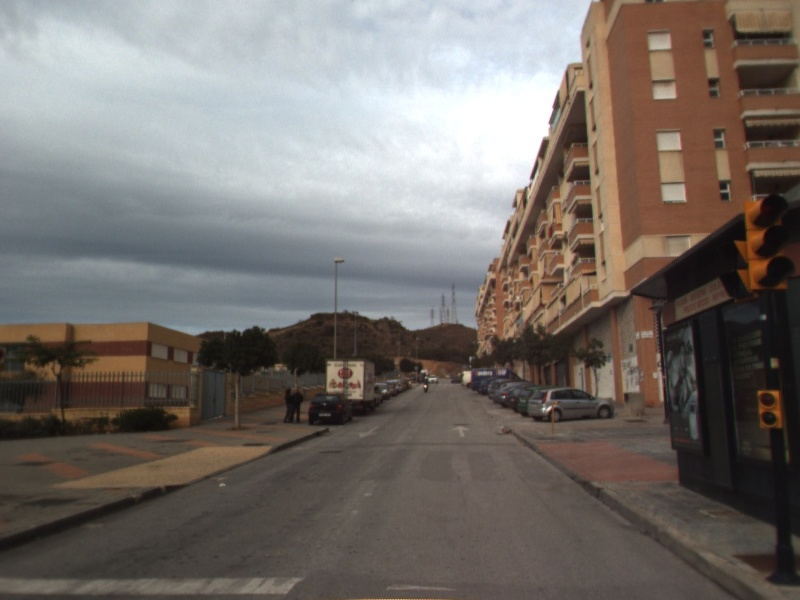STRAIGHT: (450, 423, 472, 439)
